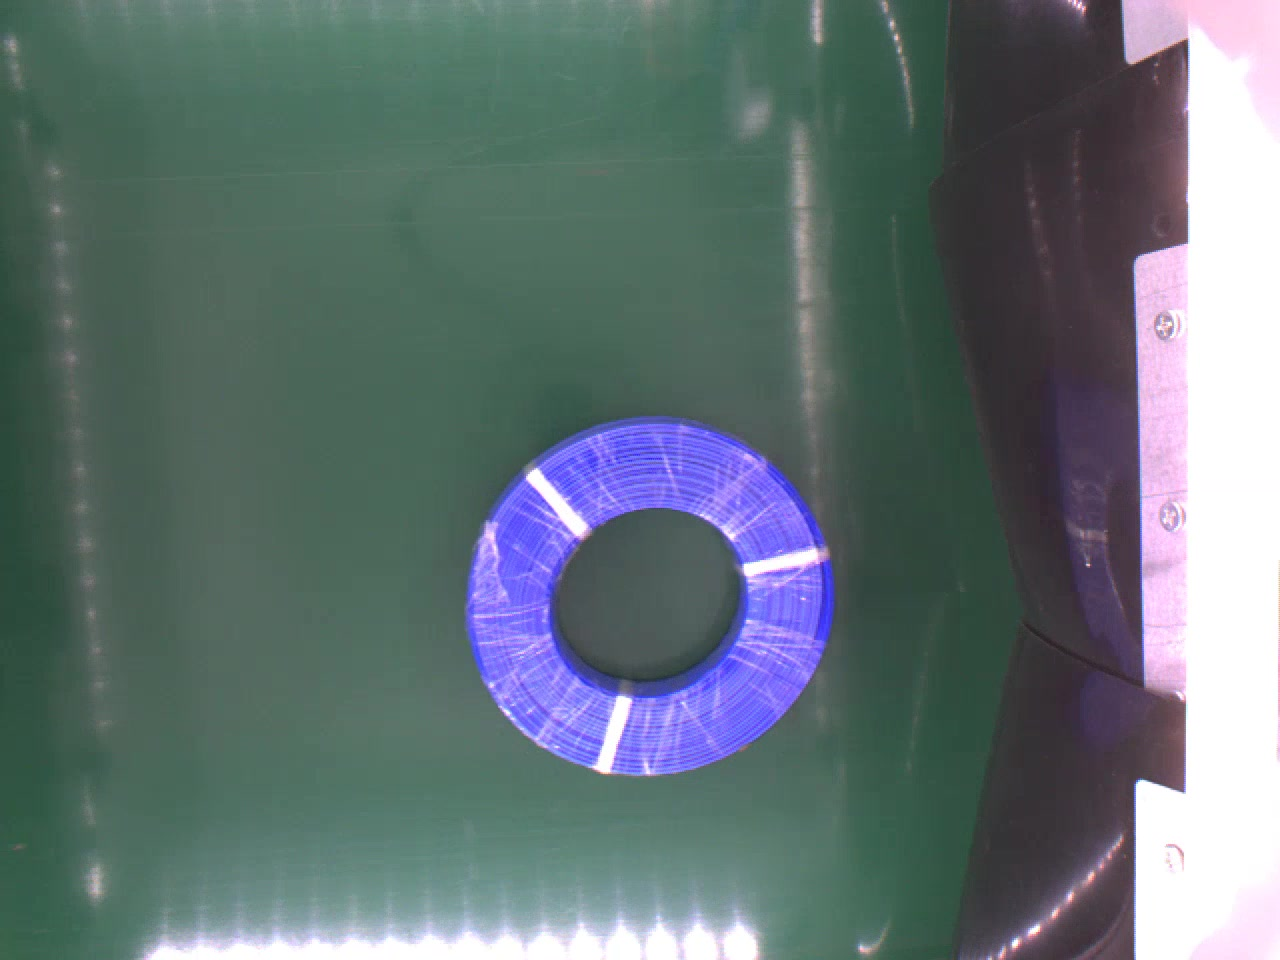blue: (458, 414, 833, 779)
